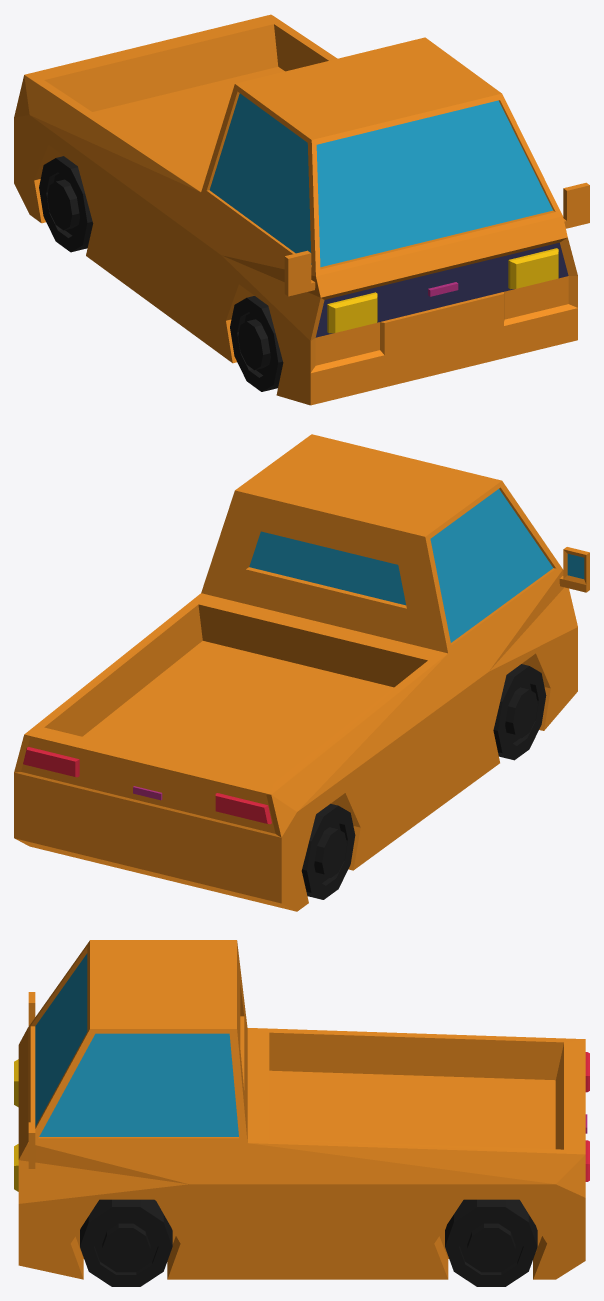
Rendered from pickup.obj.
3 views of the same model, one above another, from view 1: azimuth 30°, elevation 25°; view 2: azimuth 150°, elevation 25°; view 3: azimuth 270°, elevation 25° (orthographic). The views are drawn at different scales.
Parts seen in each view (by area): view 1: pickup_Cube.008; view 2: pickup_Cube.008; view 3: pickup_Cube.008.
Part boxes in pixels (x1,y1,x2,y2): pickup_Cube.008: (14,14,589,405); pickup_Cube.008: (14,434,589,911); pickup_Cube.008: (14,940,589,1286).
Size of the model in its own units: 4.35 by 3.46 by 7.51.
